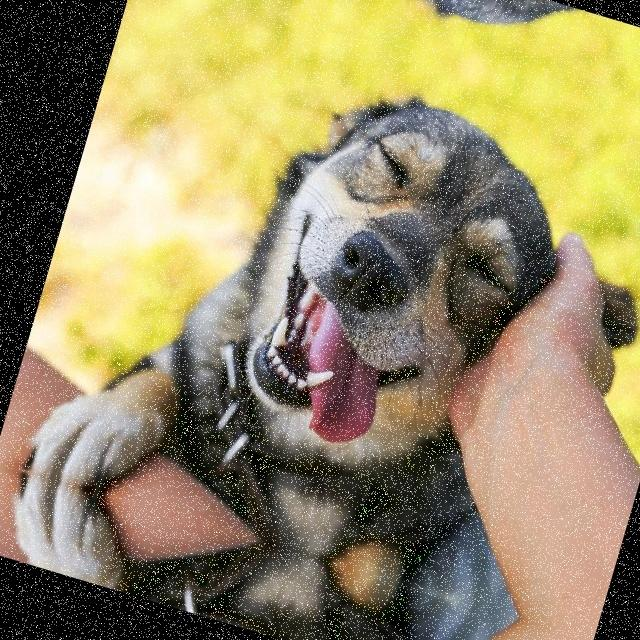dog: (168, 41, 614, 496), (289, 0, 640, 84)
